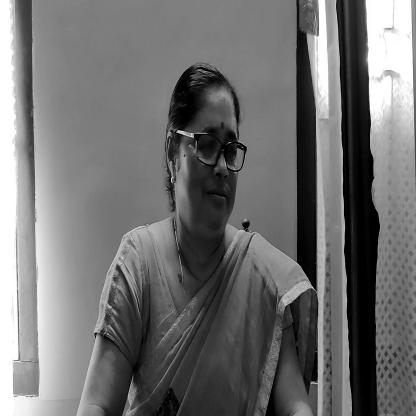Distracted: (168, 68, 246, 235)
